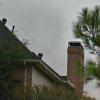Chimney: (60, 32, 84, 86)
